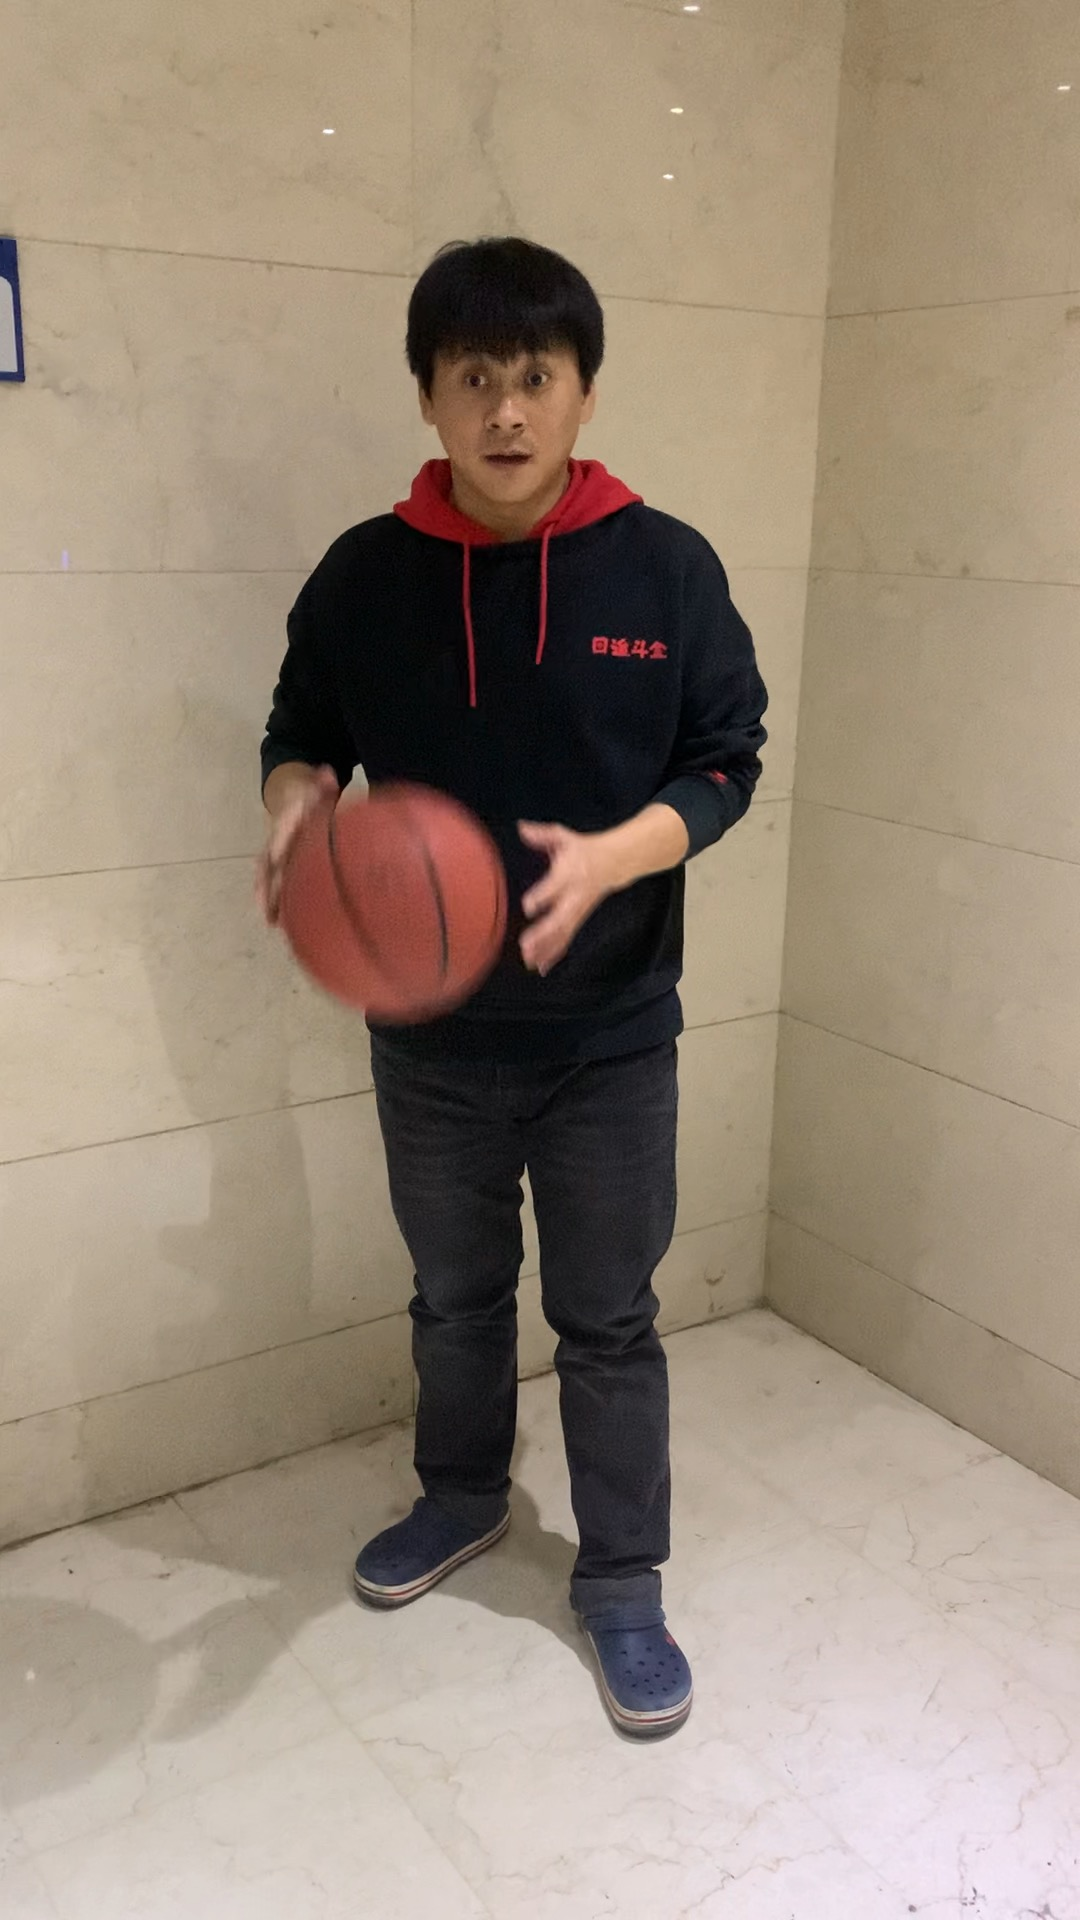ball: (277, 793, 502, 1011)
